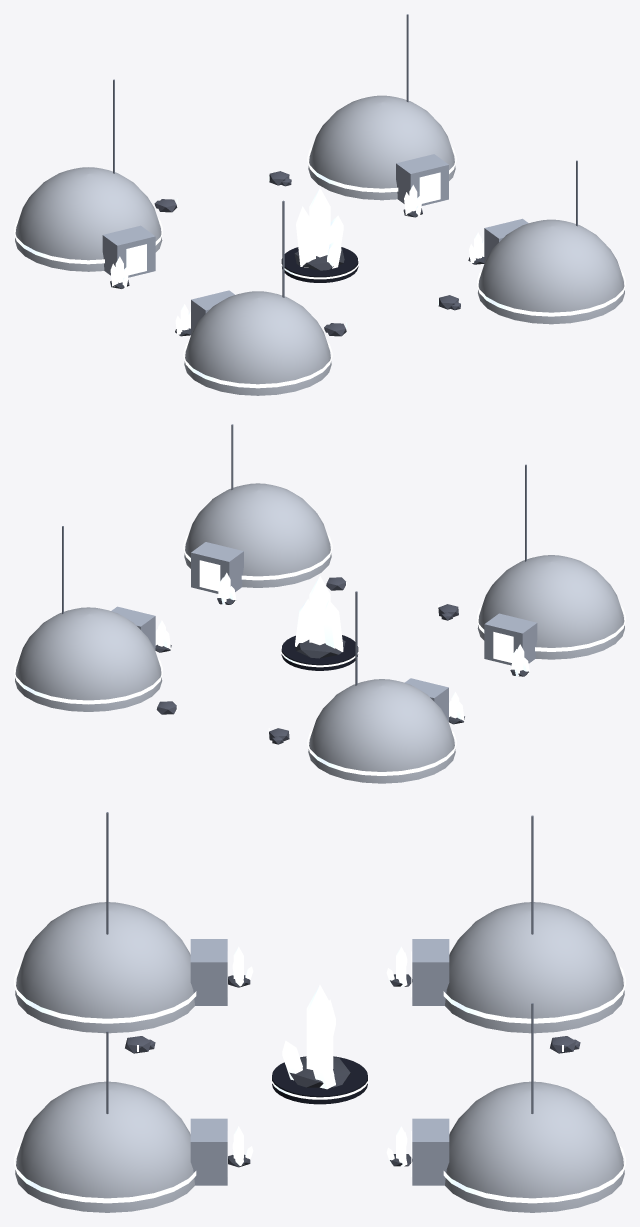
The picture shows the model from 3 angles, top to bottom: view 1: azimuth 30°, elevation 25°; view 2: azimuth 150°, elevation 25°; view 3: azimuth 270°, elevation 25°; orthographic projection. The views are drawn at different scales.
Parts seen in each view (by area): view 1: district_city_frontera.lod0; view 2: district_city_frontera.lod0; view 3: district_city_frontera.lod0.
Boxes of the visible parts, x1,y1,x2,y2 form: district_city_frontera.lod0: (14,14,625,395); district_city_frontera.lod0: (14,424,625,783); district_city_frontera.lod0: (14,812,625,1212).
Size of the model in its own units: 33.12 by 11.99 by 33.12.
